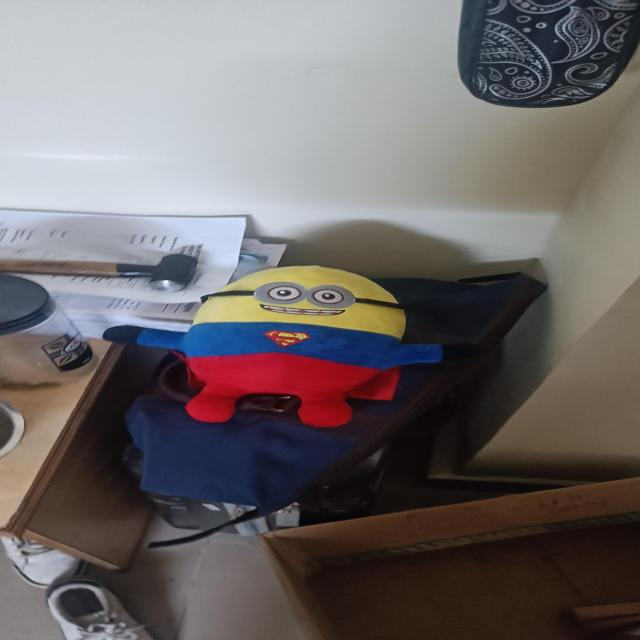minion: (131, 272, 489, 418)
